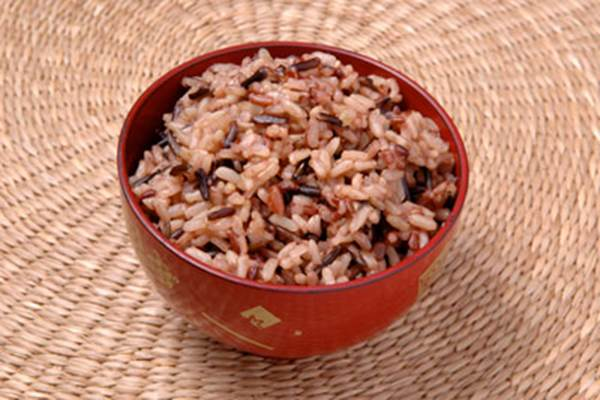Nasi Merah: (145, 45, 455, 277)
